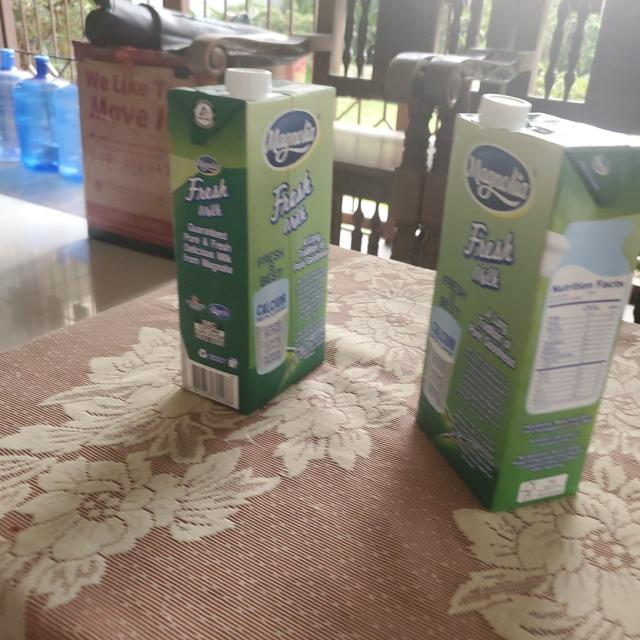milk: (416, 96, 640, 508), (168, 68, 336, 418)
